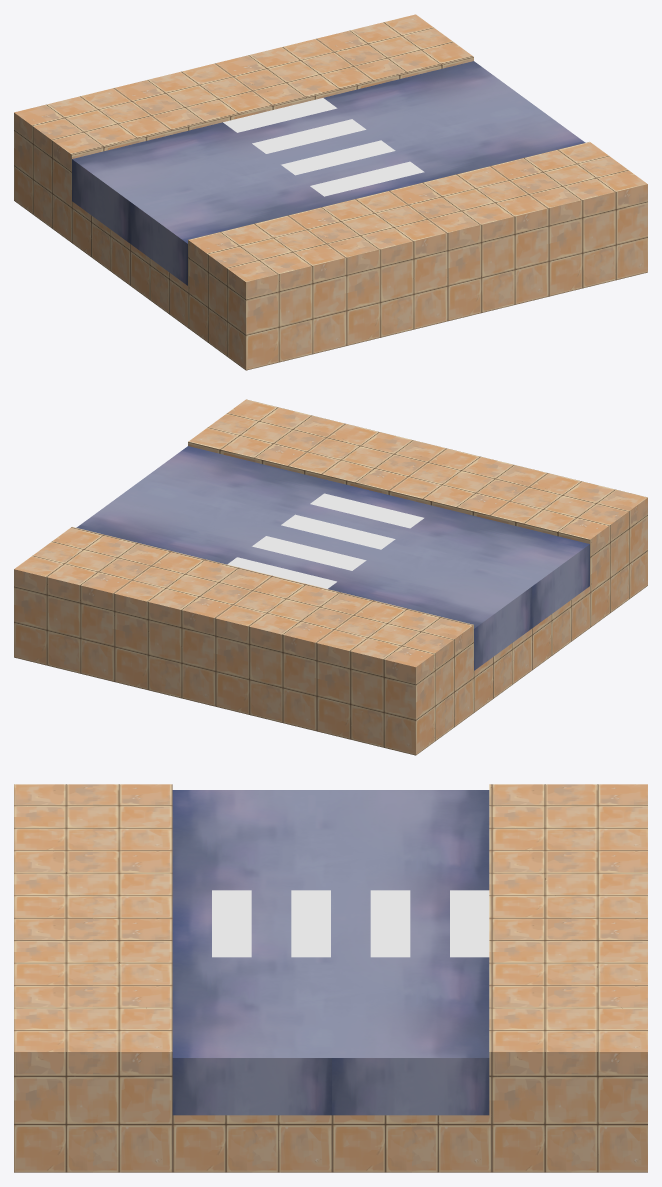
Rendered from tile026.fbx.
3 views of the same model, one above another, from view 1: azimuth 30°, elevation 25°; view 2: azimuth 150°, elevation 25°; view 3: azimuth 270°, elevation 25° (orthographic). The views are drawn at different scales.
Parts seen in each view (by area): view 1: tile026; view 2: tile026; view 3: tile026.
Part boxes in pixels (left/top/right/bottom): tile026: left=14, top=14, right=647, bottom=370; tile026: left=14, top=399, right=647, bottom=755; tile026: left=14, top=784, right=647, bottom=1172.
Size of the model in its own units: 100 by 21 by 100.
